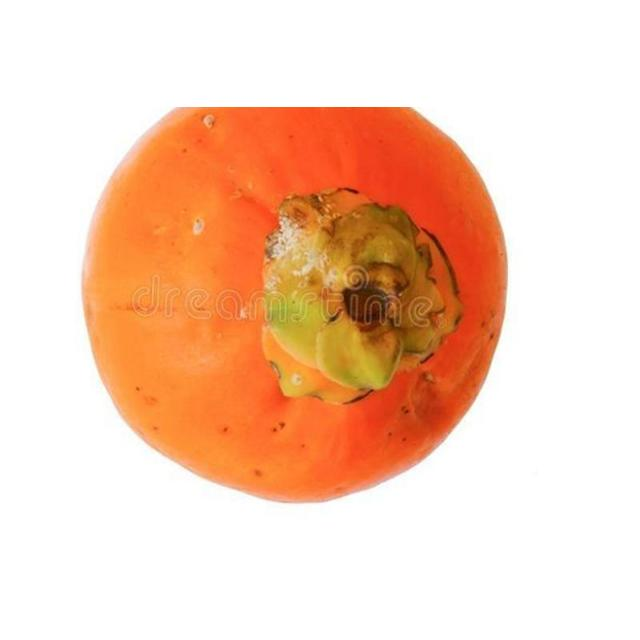good: (79, 107, 509, 506)
